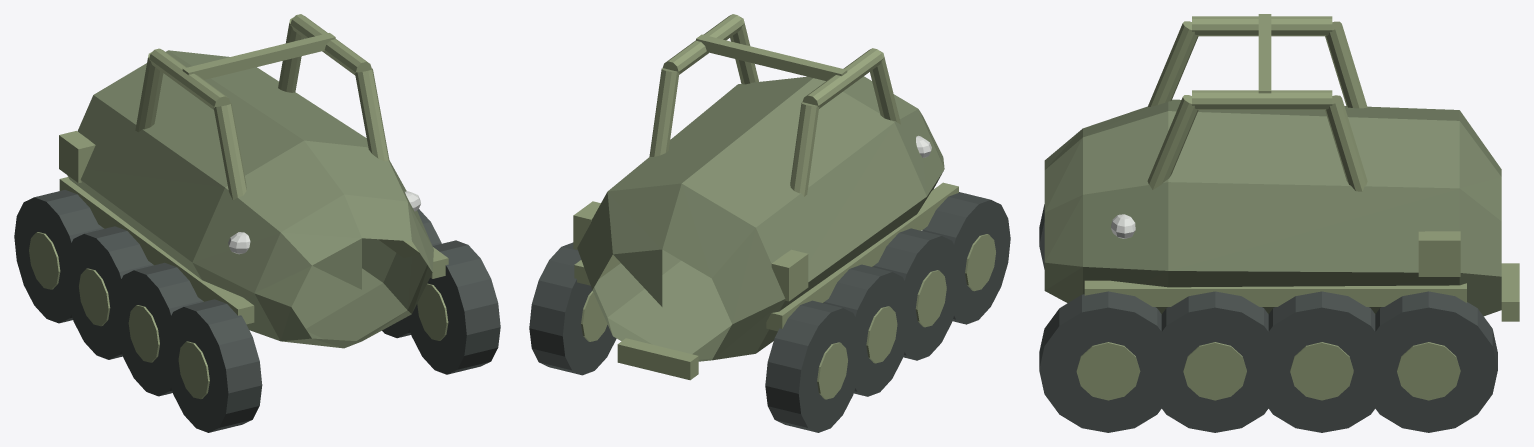
The model's file is pindad-maung-4x4.glb.
The picture shows the model from 3 angles, left to right: view 1: azimuth 30°, elevation 25°; view 2: azimuth 150°, elevation 25°; view 3: azimuth 270°, elevation 25°; orthographic projection. The views are drawn at different scales.
Parts seen in each view (by area): view 1: pindad-maung-4x4; view 2: pindad-maung-4x4; view 3: pindad-maung-4x4.
Boxes of the visible parts, x1,y1,x2,y2 form: pindad-maung-4x4: (14,14,500,432); pindad-maung-4x4: (529,14,1010,432); pindad-maung-4x4: (1039,14,1519,432).
Size of the model in its own units: 1.89 by 1.88 by 2.64.
